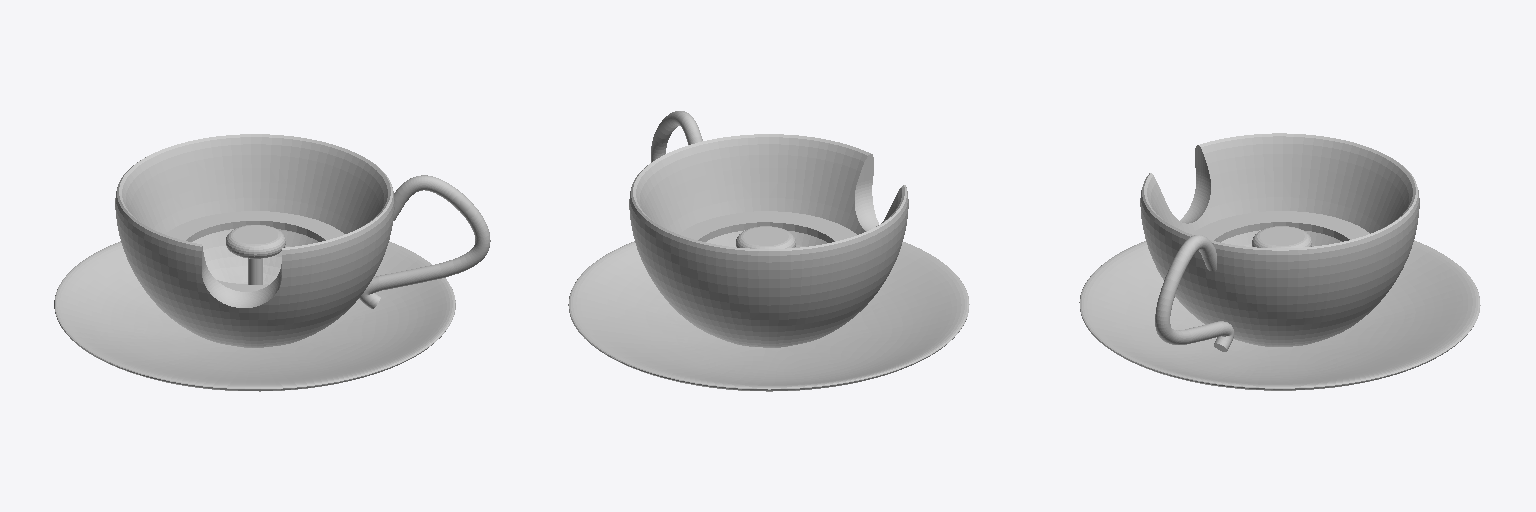
File: TeaCup3.obj
3 views of the same model, side by side, from view 1: azimuth 30°, elevation 25°; view 2: azimuth 150°, elevation 25°; view 3: azimuth 270°, elevation 25° (orthographic).
Bounding box in the file's own units: 107 × 46.94 × 106.